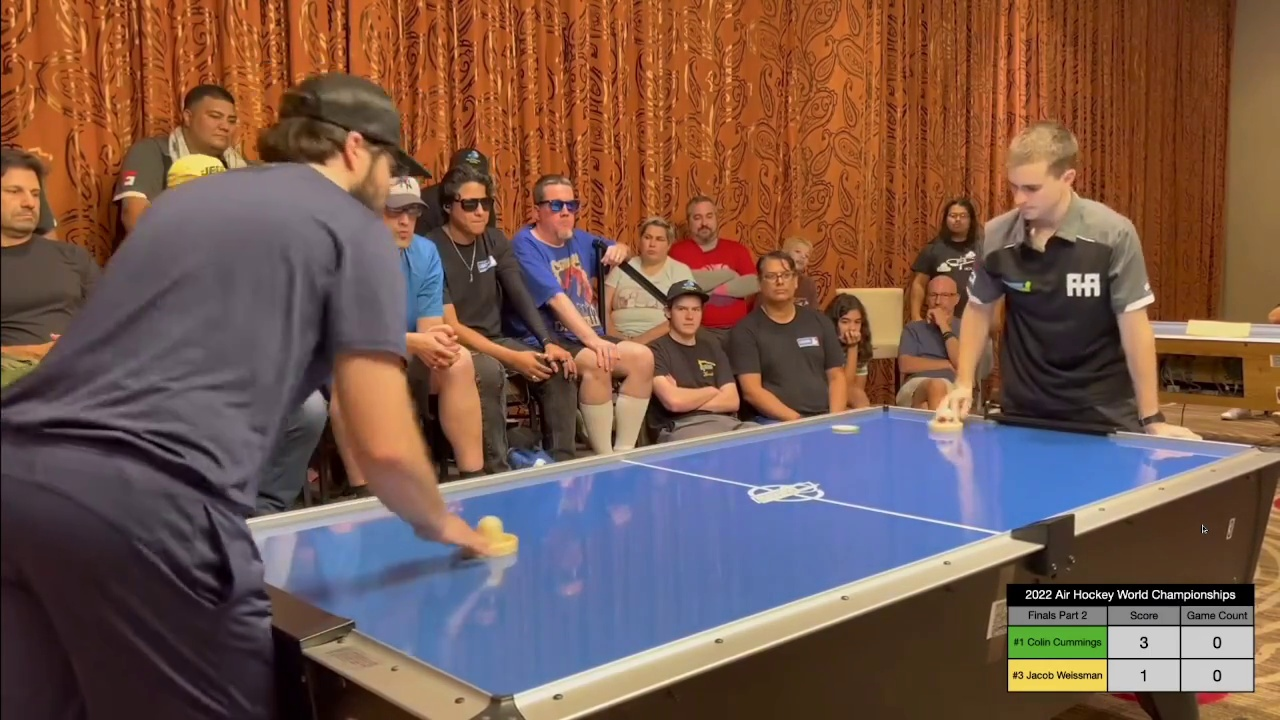player: (472, 516, 518, 553), (930, 406, 967, 435)
puck: (831, 421, 859, 434)
table: (245, 402, 1280, 703)
